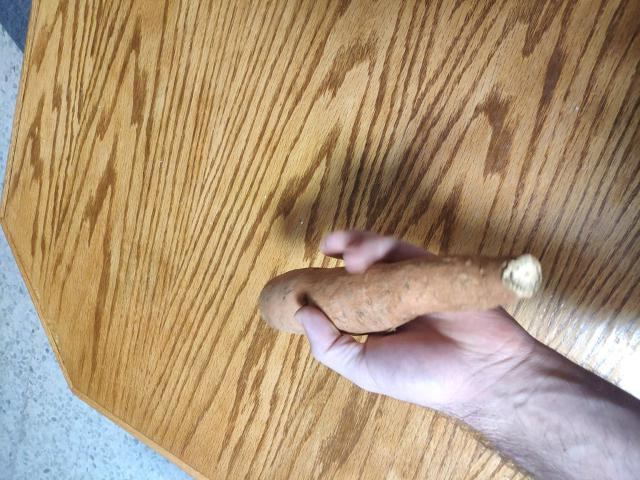sweet_potato: (276, 248, 518, 339)
